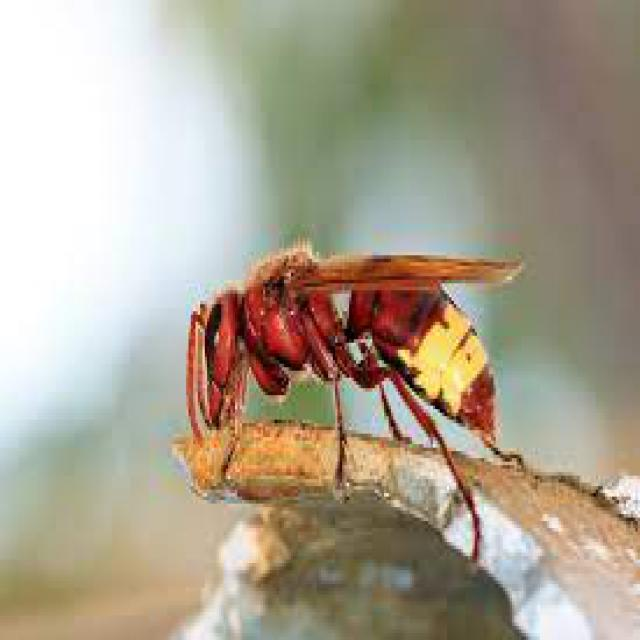Vespa Orientalis: (158, 208, 550, 586)
